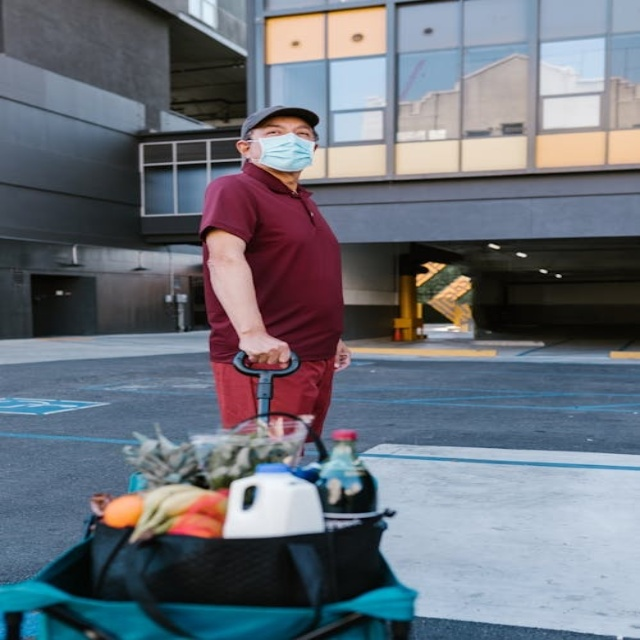Mascara: (247, 133, 316, 172)
Sin_gafas: (256, 125, 317, 141)
Sin_guantes: (234, 323, 291, 368), (332, 340, 351, 370)
